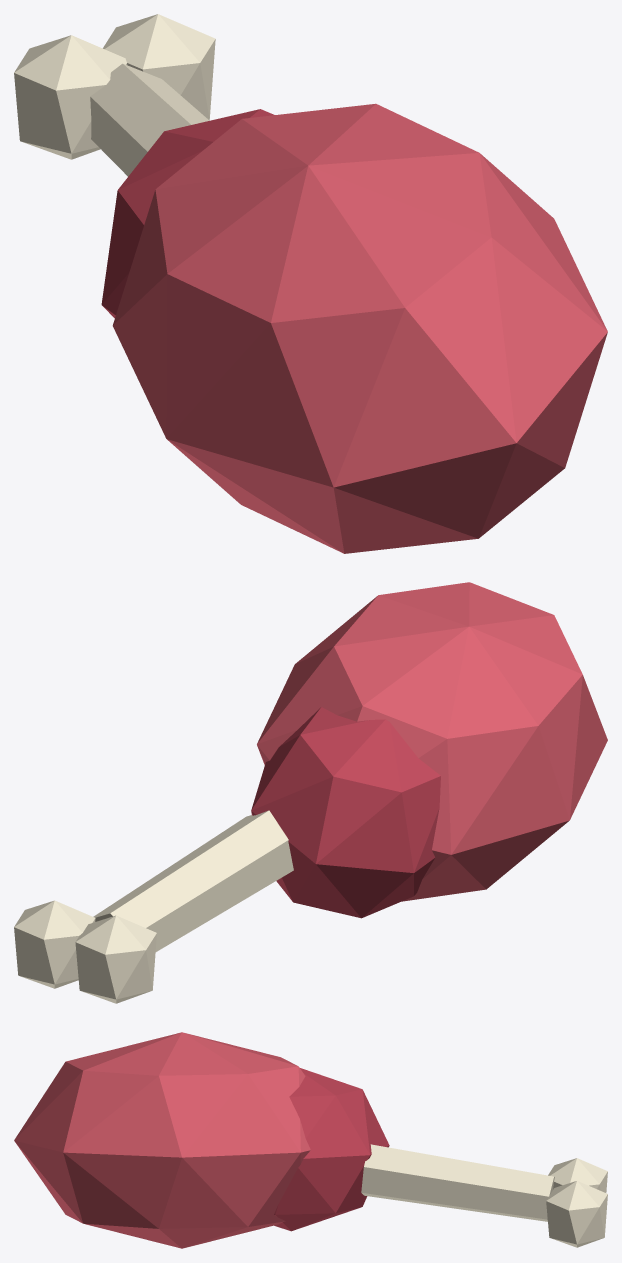
File: drop_drumstick_raw.glb
3 renders of one model, top to bottom at view 1: azimuth 30°, elevation 25°; view 2: azimuth 150°, elevation 25°; view 3: azimuth 270°, elevation 25°, orthographic. The views are drawn at different scales.
Visible parts, largest first — view 1: drop_drumstick_raw; view 2: drop_drumstick_raw; view 3: drop_drumstick_raw.
Part boxes in pixels (bbox=[...]): drop_drumstick_raw: bbox=[14, 14, 607, 553]; drop_drumstick_raw: bbox=[14, 582, 607, 1003]; drop_drumstick_raw: bbox=[14, 1032, 607, 1248].
Size of the model in its own units: 0.1517 by 0.1242 by 0.3534.
